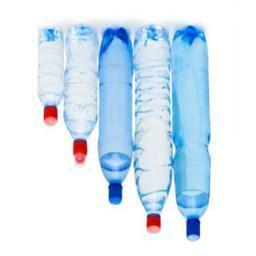plastic: (38, 23, 211, 241)
